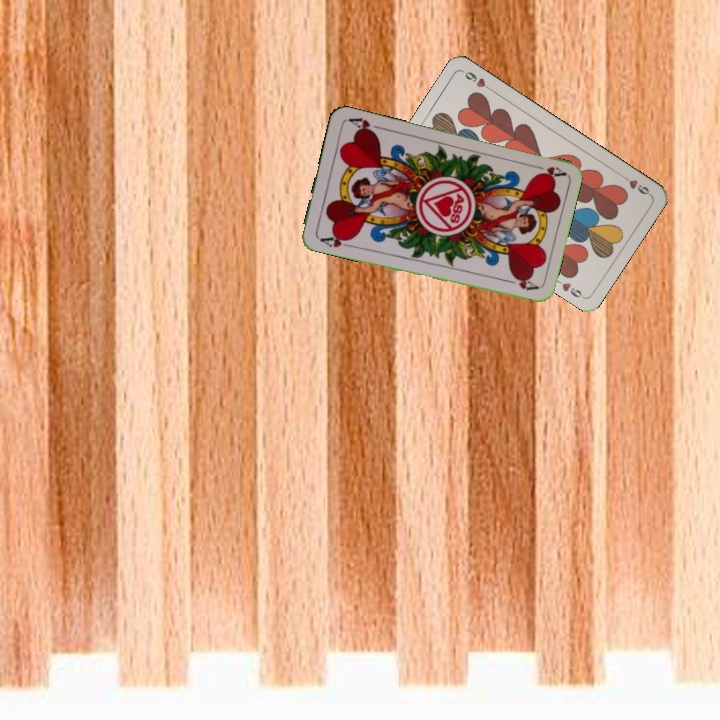H9: (617, 171, 653, 198)
HA: (315, 231, 355, 250), (527, 161, 567, 180)
